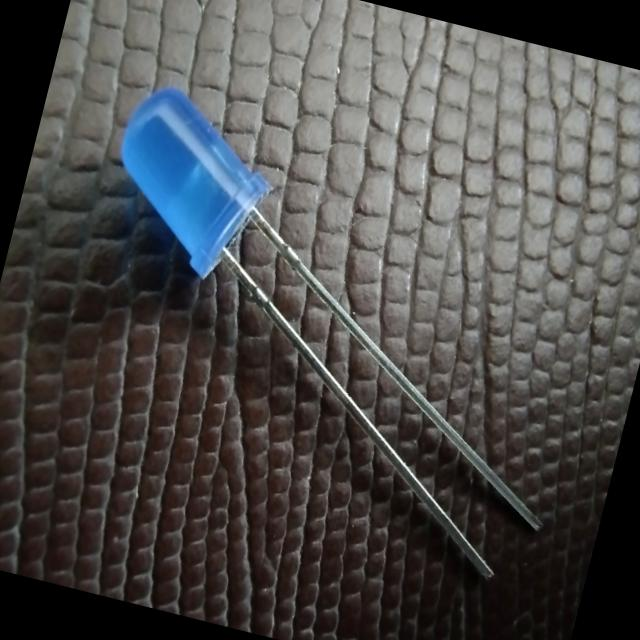blue_led: (39, 75, 625, 590), (92, 76, 290, 291)
